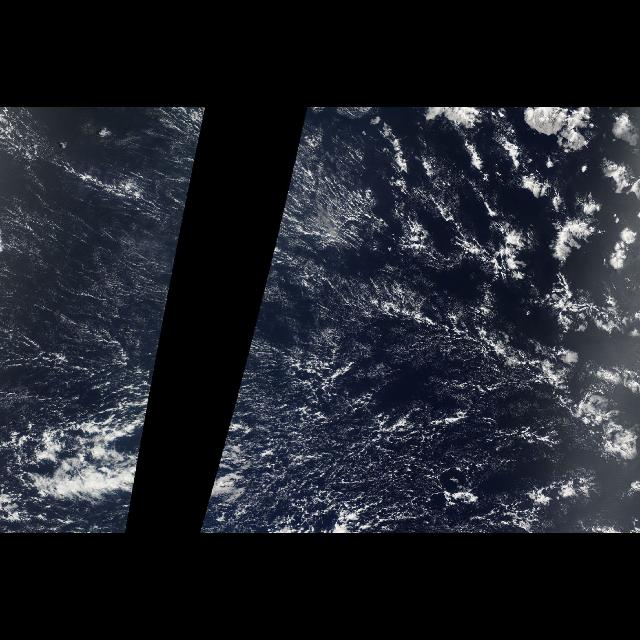Flower: (350, 110, 640, 356)
Gravel: (266, 376, 594, 532)
Sugar: (4, 112, 206, 398)
